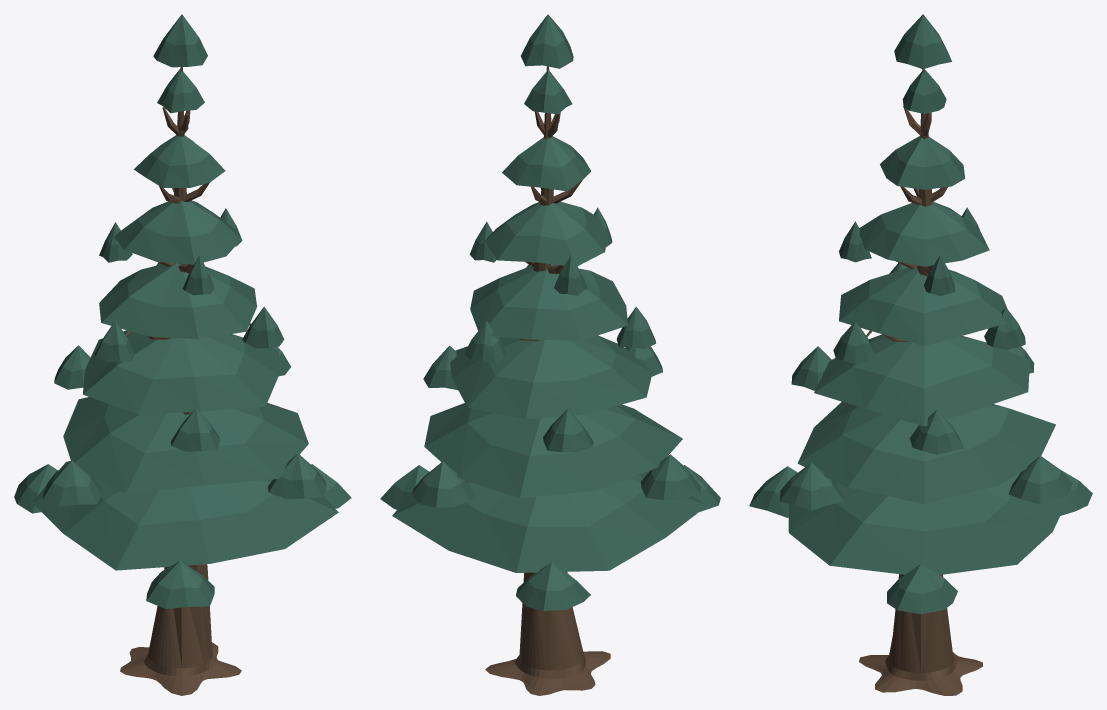
File: spruce_autumn.glb
3 views of the same model, side by side, from view 1: azimuth 30°, elevation 25°; view 2: azimuth 150°, elevation 25°; view 3: azimuth 270°, elevation 25° (orthographic).
Parts seen in each view (by area): view 1: leaves, branches; view 2: leaves, branches; view 3: leaves, branches.
Boxes of the visible parts, x1,y1,x2,y2 form: leaves: [14, 14, 351, 608]; branches: [90, 67, 250, 695]; leaves: [380, 14, 720, 610]; branches: [485, 66, 650, 695]; leaves: [749, 14, 1092, 614]; branches: [859, 69, 1020, 695].
Size of the model in its own units: 2.9 by 5.9 by 2.79.
